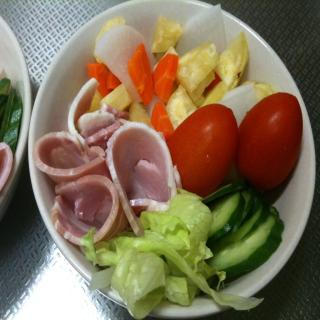tomato: (166, 101, 240, 200), (232, 90, 301, 192)
